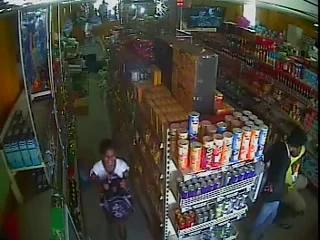Normal: (86, 138, 134, 240)
